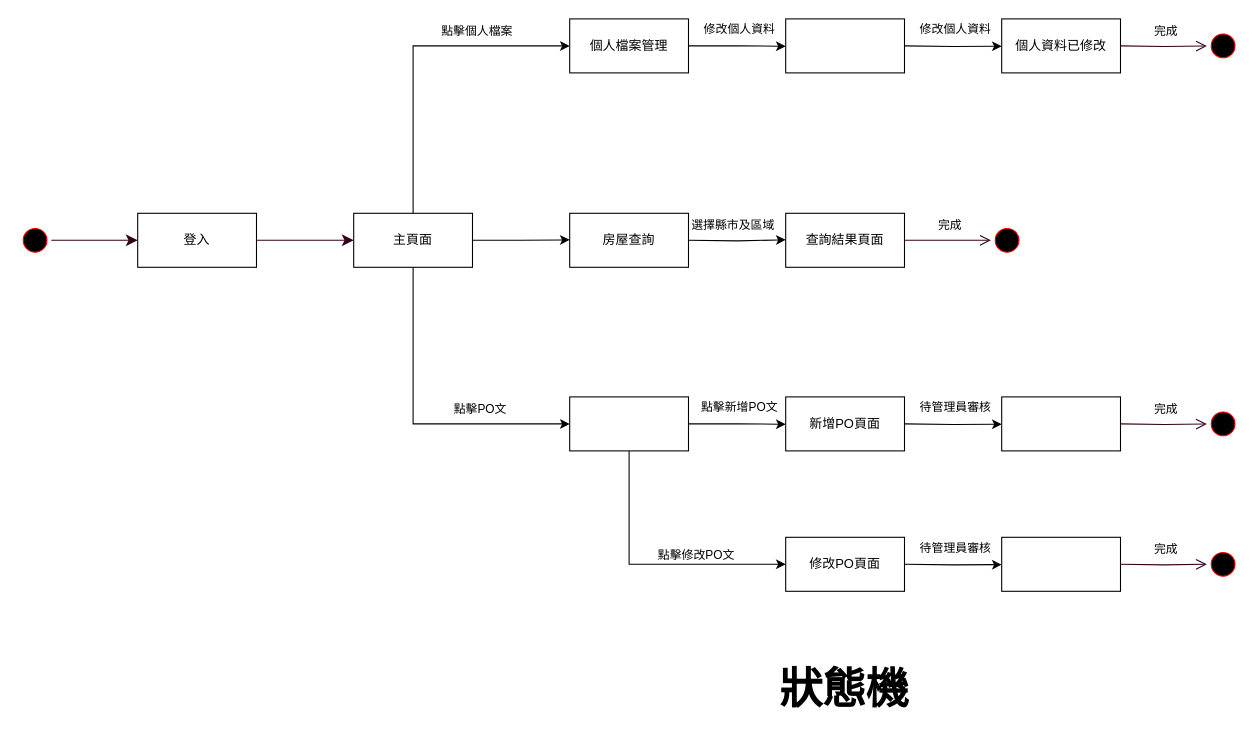
This 1258x740 diagram has some shape labels left out. Each missing label, with the centre of its shape:
PO文管理: pixel 628 423
修改PO文成功: pixel 1060 563
修改個資頁面: pixel 845 45
新增PO文成功: pixel 1060 423
